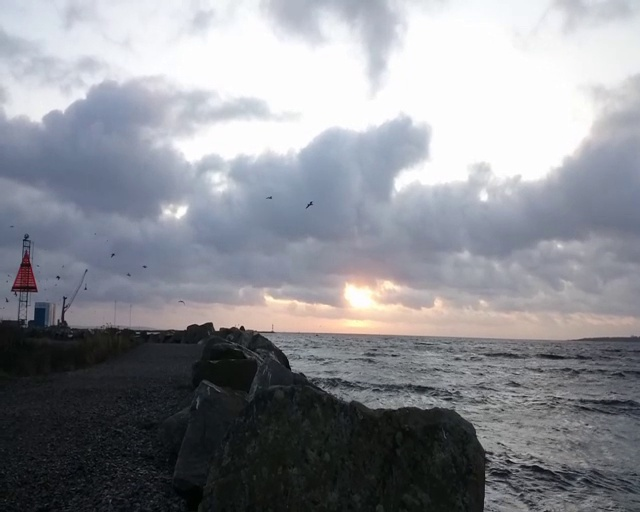BIRD: (54, 265, 89, 327)
